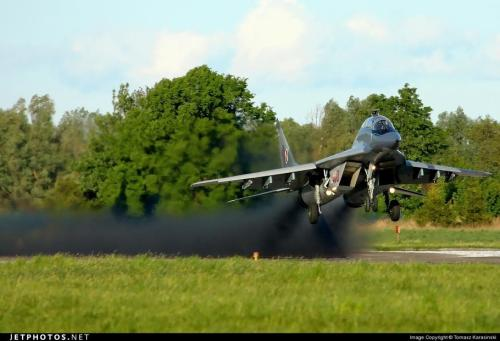smoke: (1, 196, 354, 258)
